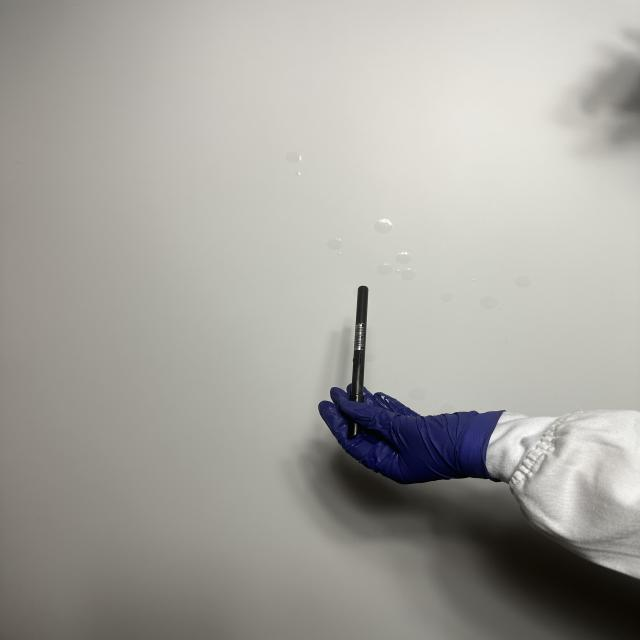gloves_contaminated: (319, 387, 503, 484)
